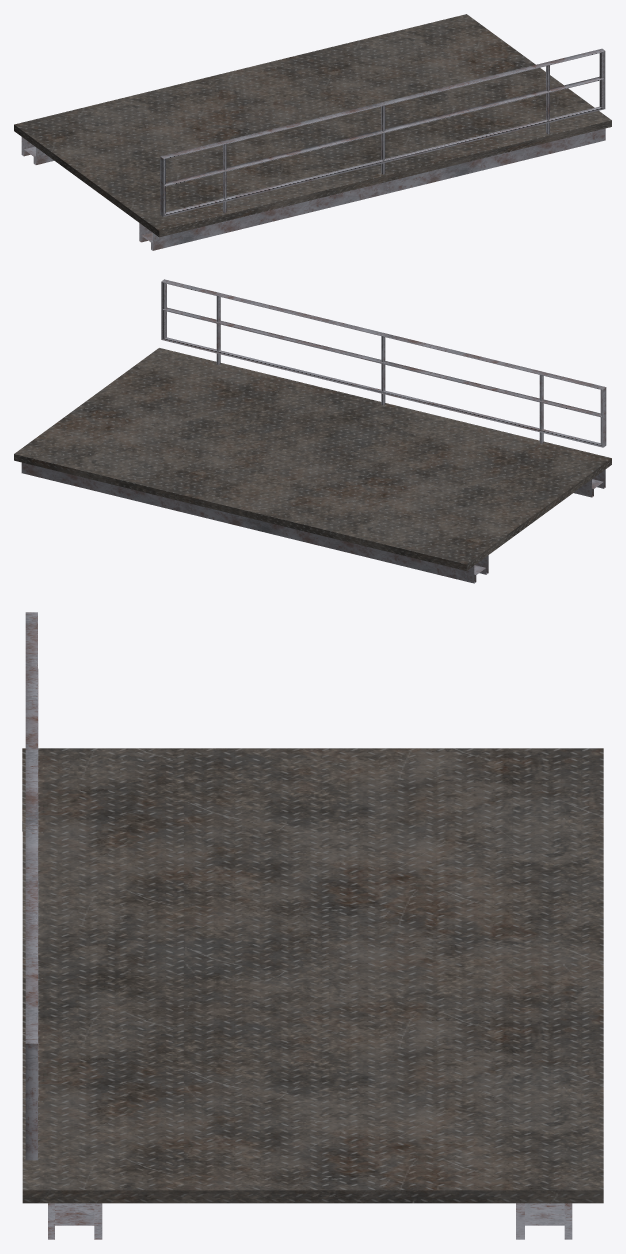
File: Factory1Stairs07.FBX
3 views of the same model, one above another, from view 1: azimuth 30°, elevation 25°; view 2: azimuth 150°, elevation 25°; view 3: azimuth 270°, elevation 25° (orthographic). The views are drawn at different scales.
Parts seen in each view (by area): view 1: Factory1Stairs07; view 2: Factory1Stairs07; view 3: Factory1Stairs07.
Part boxes in pixels (x1,y1,x2,y2): Factory1Stairs07: [14, 14, 611, 250]; Factory1Stairs07: [14, 279, 611, 583]; Factory1Stairs07: [22, 612, 603, 1239].
Size of the model in its own units: 450 by 90.4 by 250.
